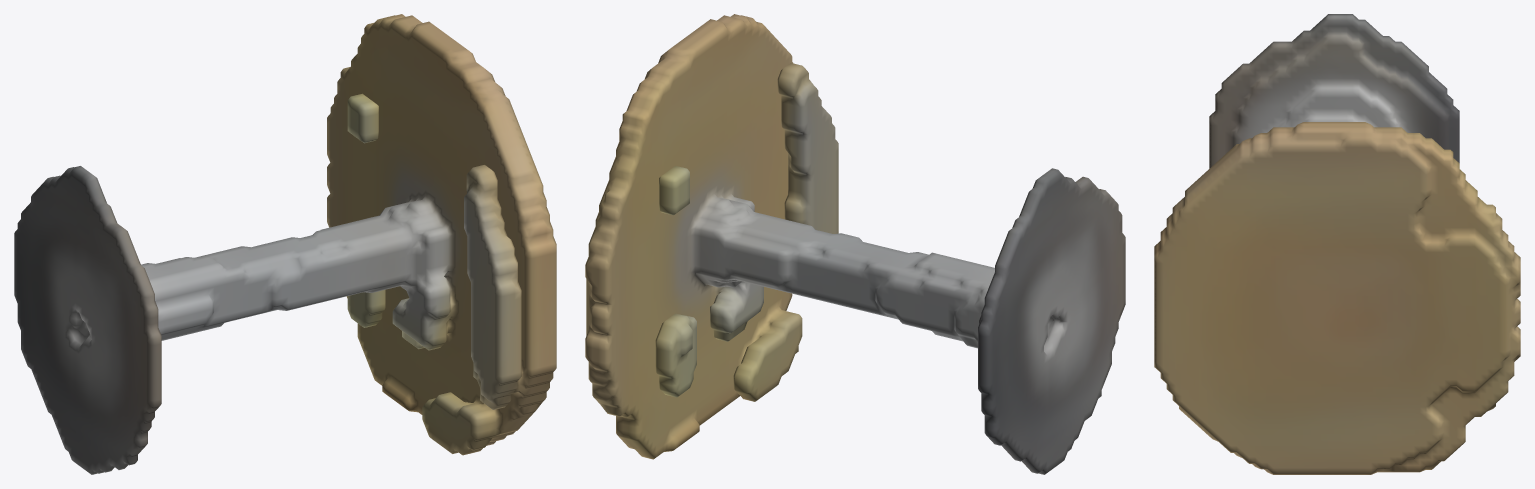
Rendered from Modern end table with a beige circular top and sma.glb.
The picture shows the model from 3 angles, left to right: view 1: azimuth 30°, elevation 25°; view 2: azimuth 150°, elevation 25°; view 3: azimuth 270°, elevation 25°; orthographic projection. The views are drawn at different scales.
Parts seen in each view (by area): view 1: Modern end table with a beige circular top and sma; view 2: Modern end table with a beige circular top and sma; view 3: Modern end table with a beige circular top and sma.
Part boxes in pixels (x1,y1,x2,y2): Modern end table with a beige circular top and sma: (14, 14, 556, 474); Modern end table with a beige circular top and sma: (585, 14, 1125, 474); Modern end table with a beige circular top and sma: (1154, 14, 1520, 474).
Size of the model in its own units: 64 by 62 by 60.
